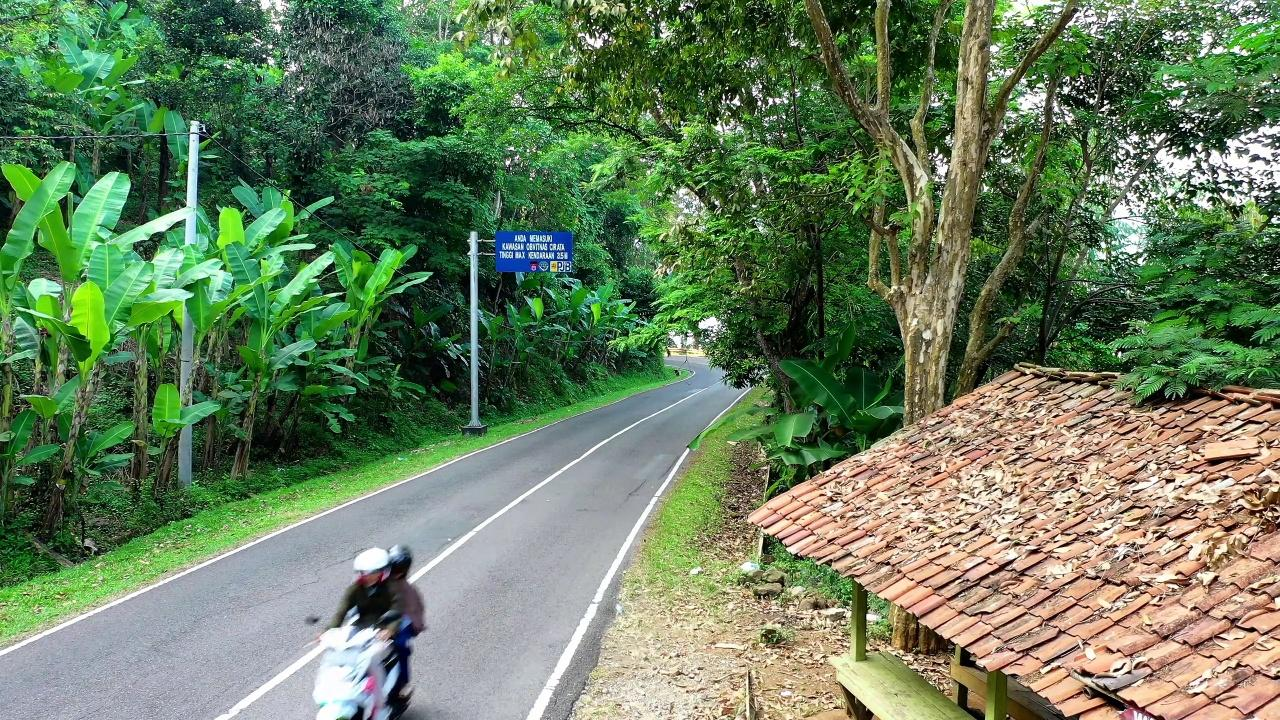Helmet: (328, 548, 403, 628)
Motor: (313, 614, 406, 719)
